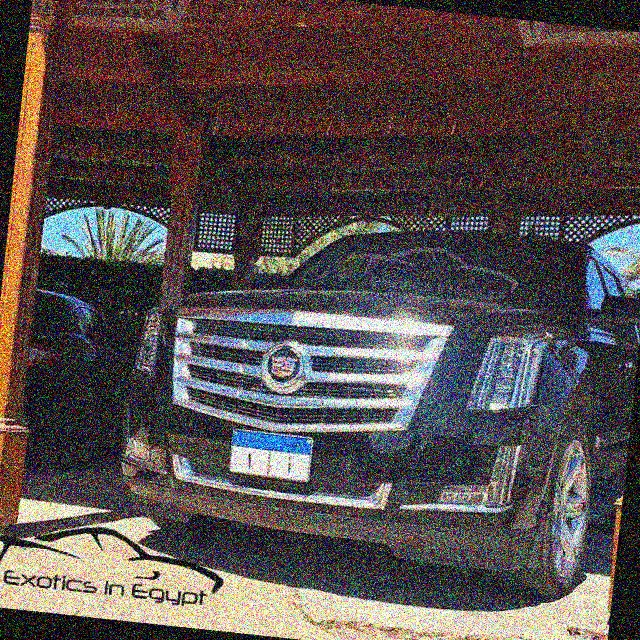License Plate: (224, 425, 317, 486)
